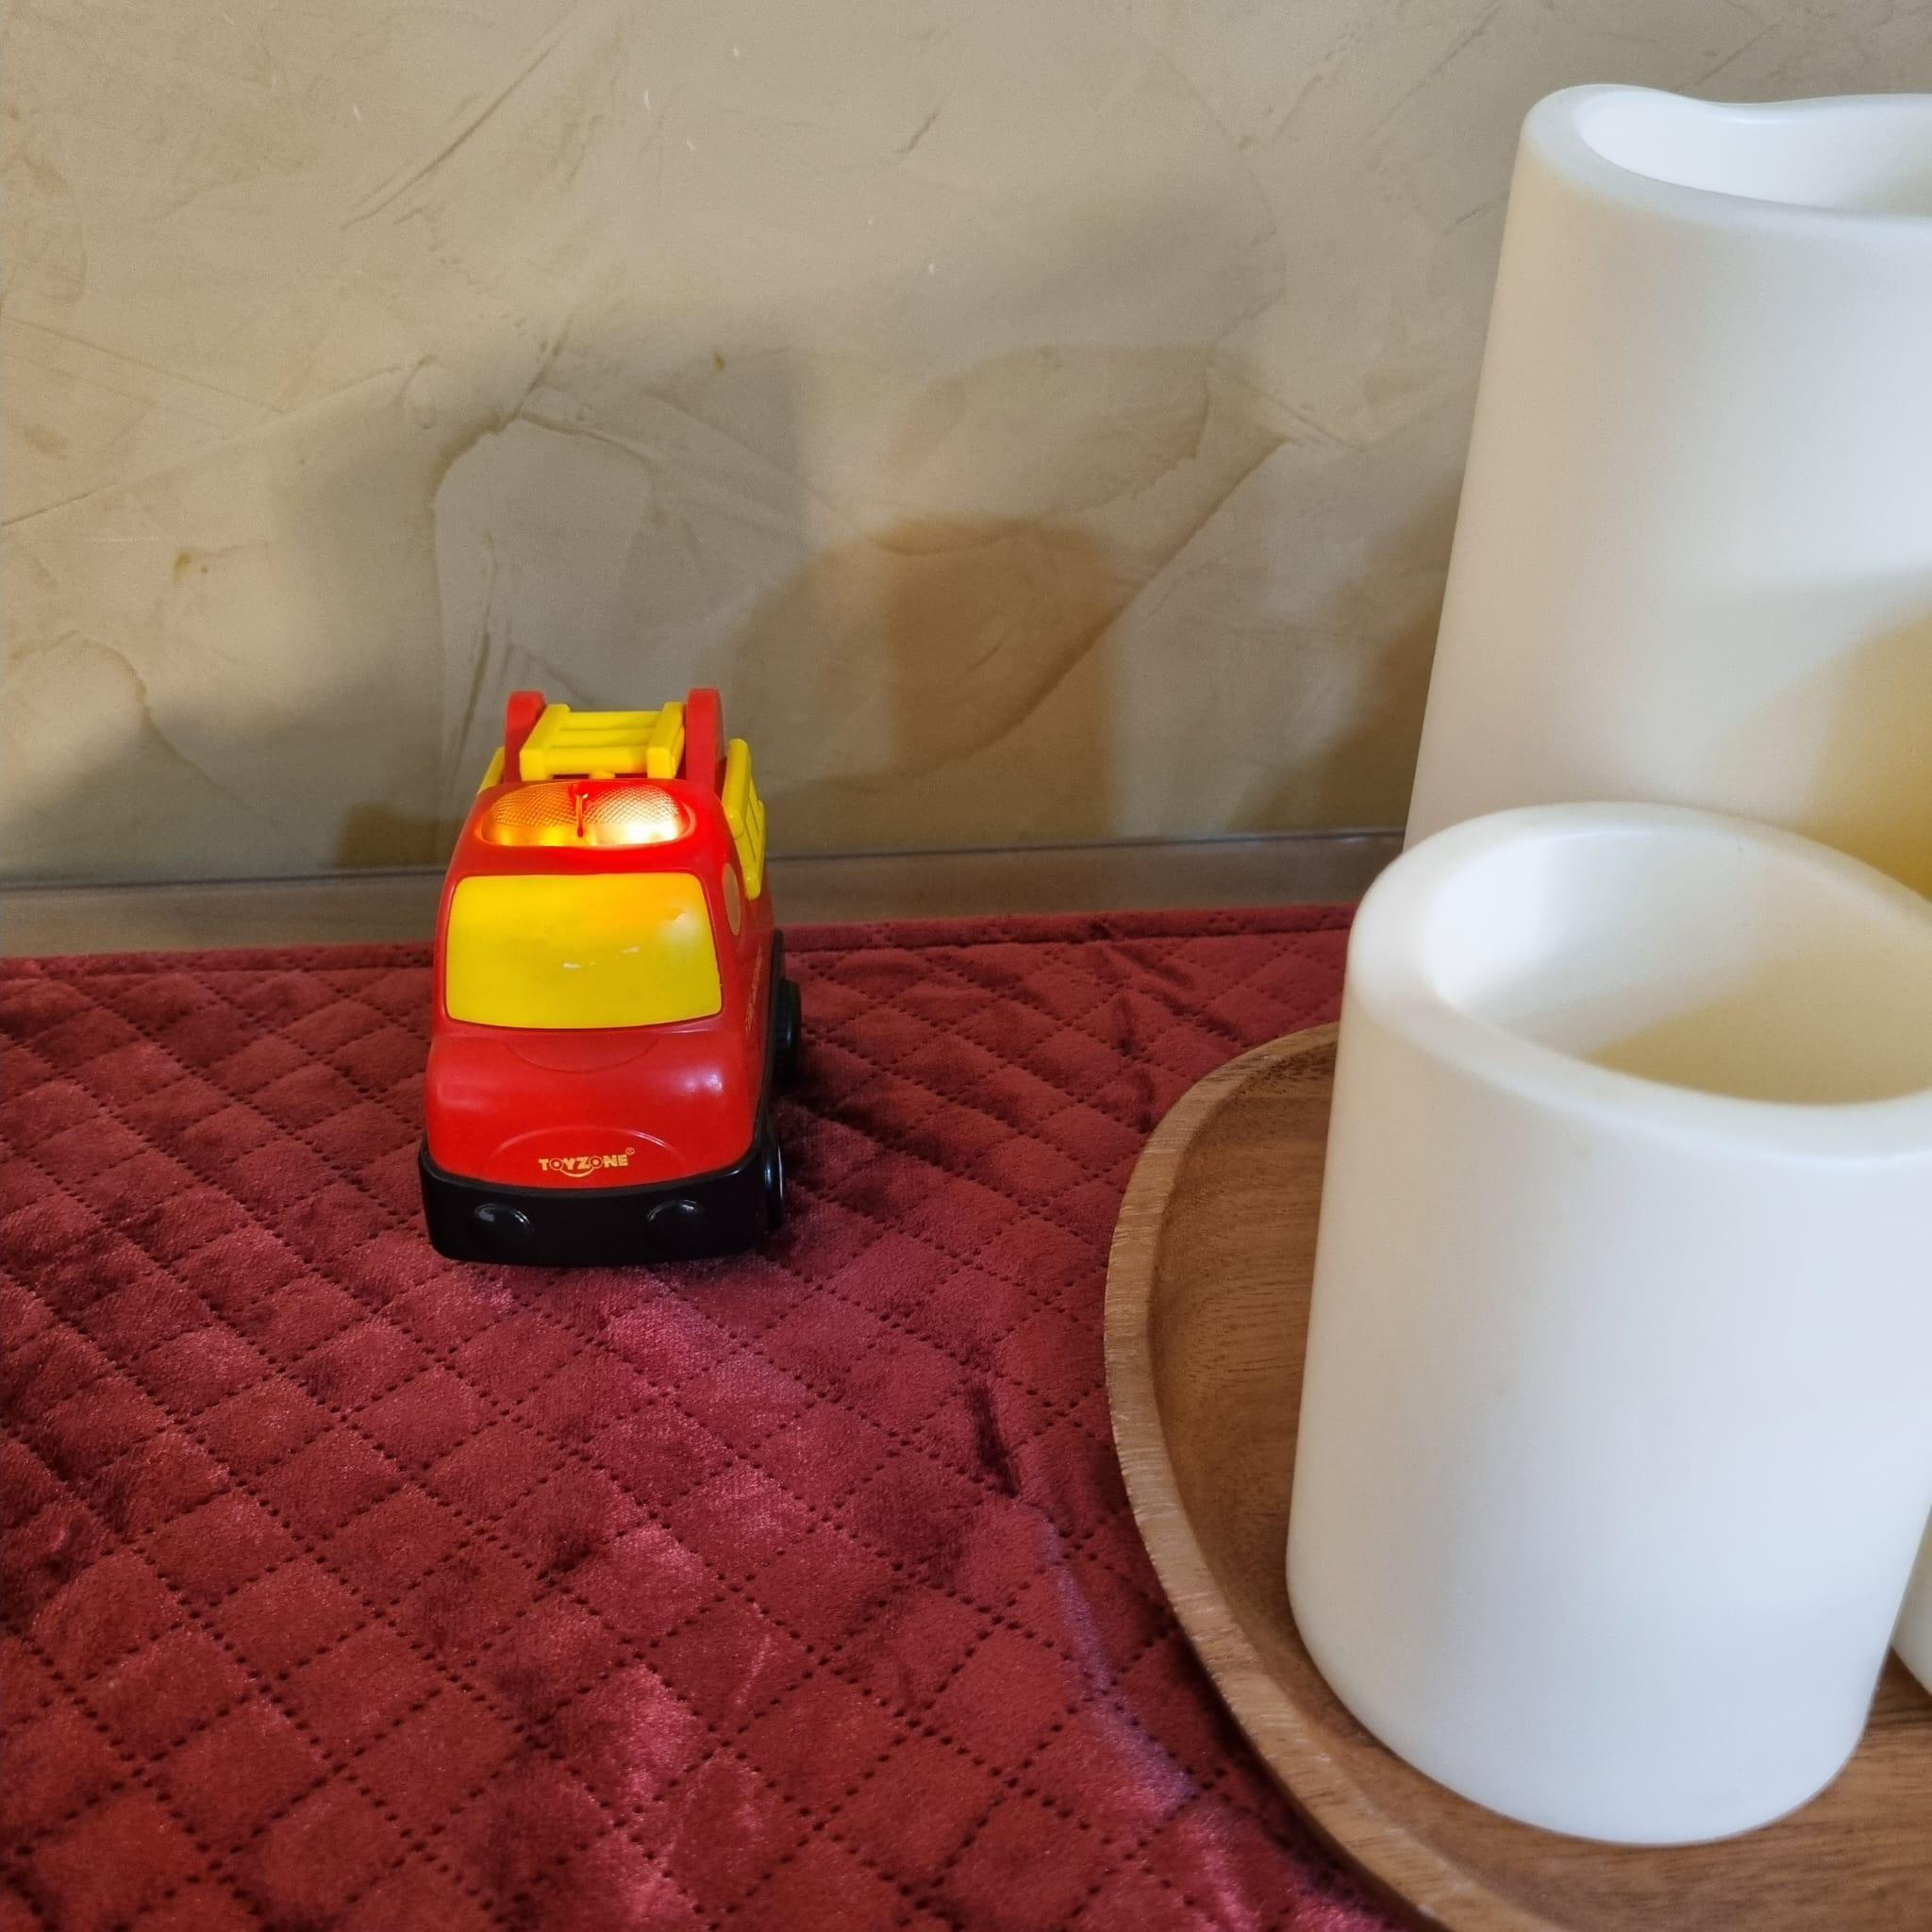firetruck_on: (419, 685, 800, 1258)
